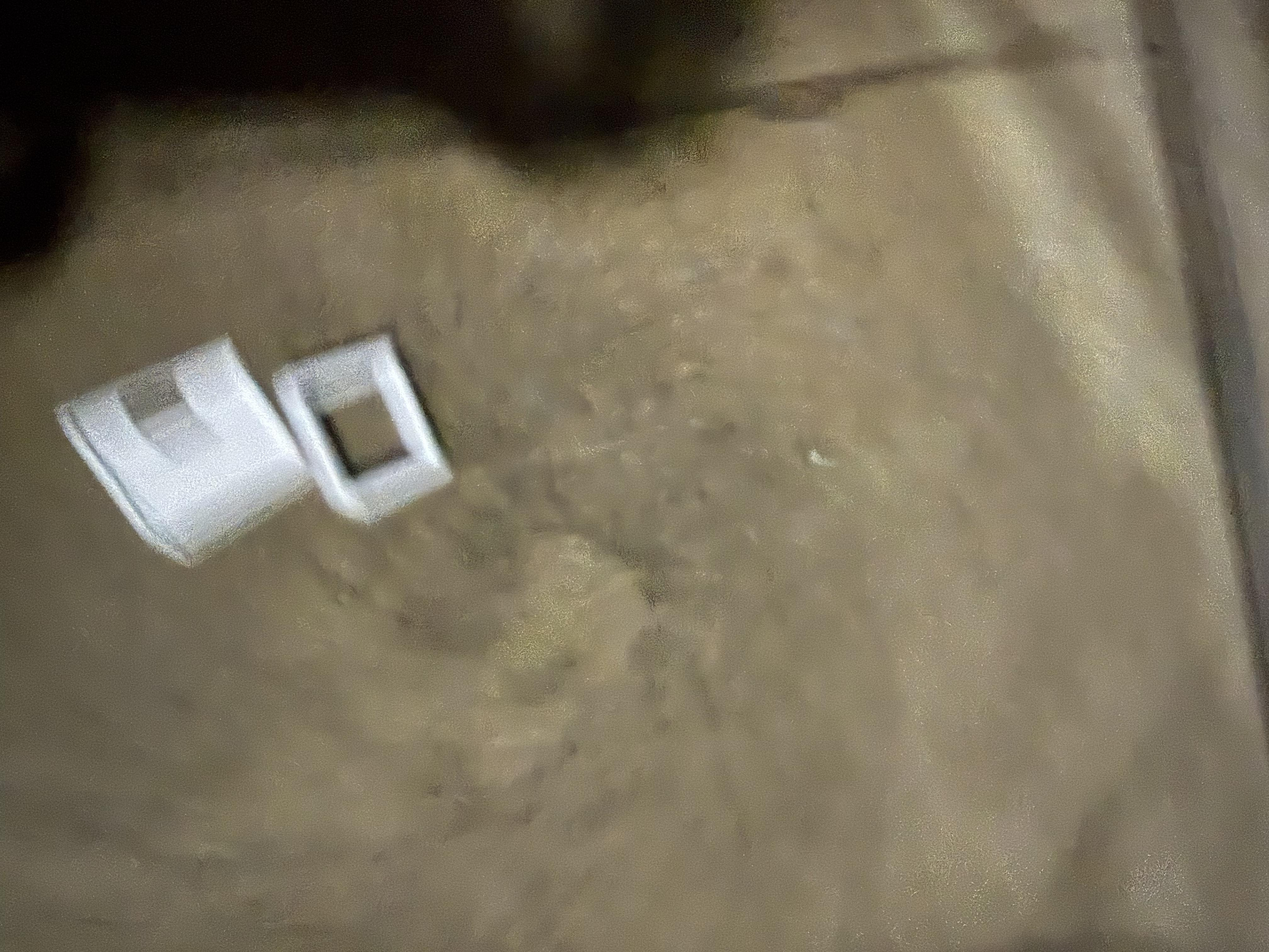enclosure: (53, 333, 316, 568), (271, 326, 455, 526)
